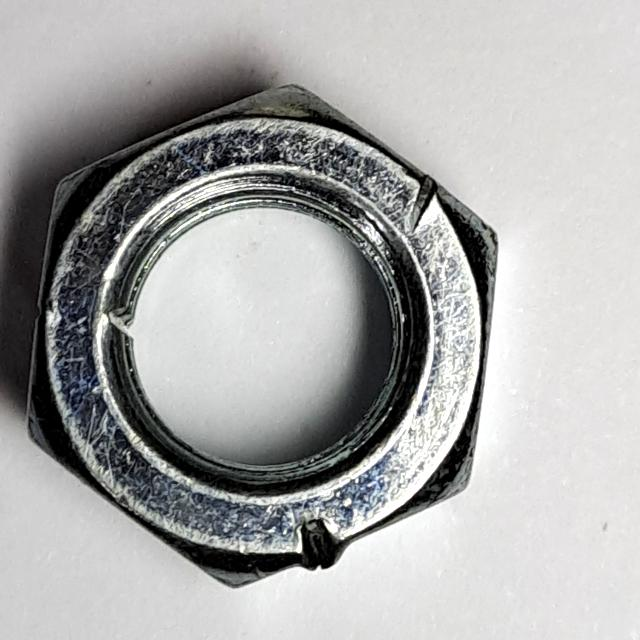Scratches: (18, 72, 516, 600)
